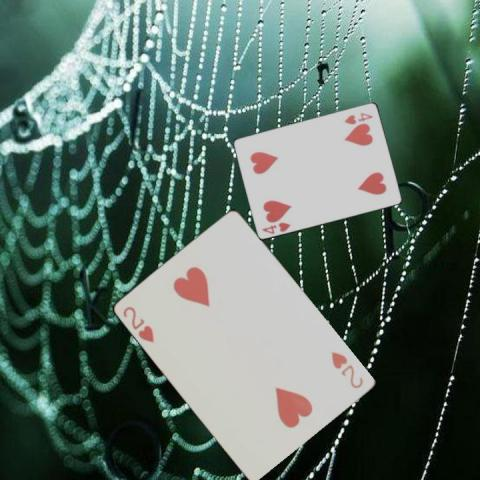2h: (327, 348, 365, 390), (119, 303, 155, 344)
4h: (341, 110, 374, 126), (259, 219, 292, 235)
